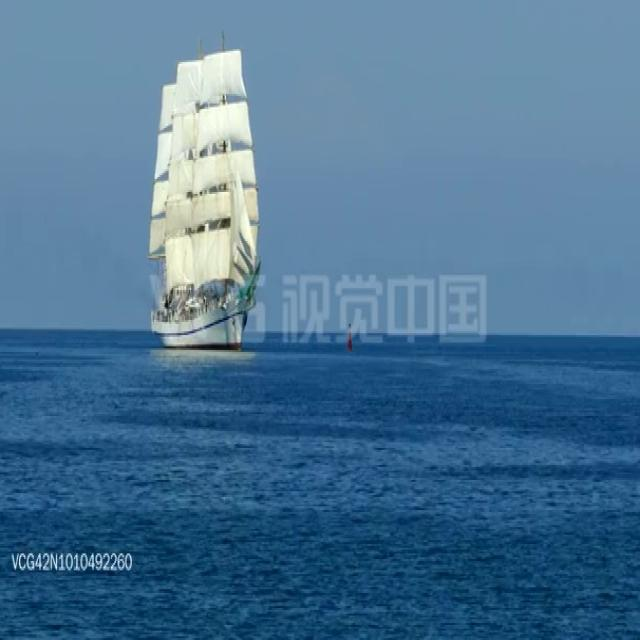sailboat: (150, 38, 260, 357)
